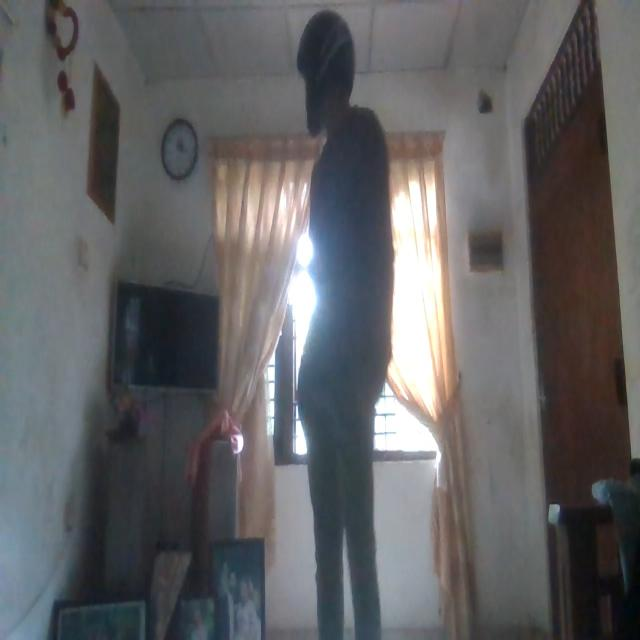Helmet_Wearer: (296, 8, 360, 146)
Person: (281, 6, 404, 640)
